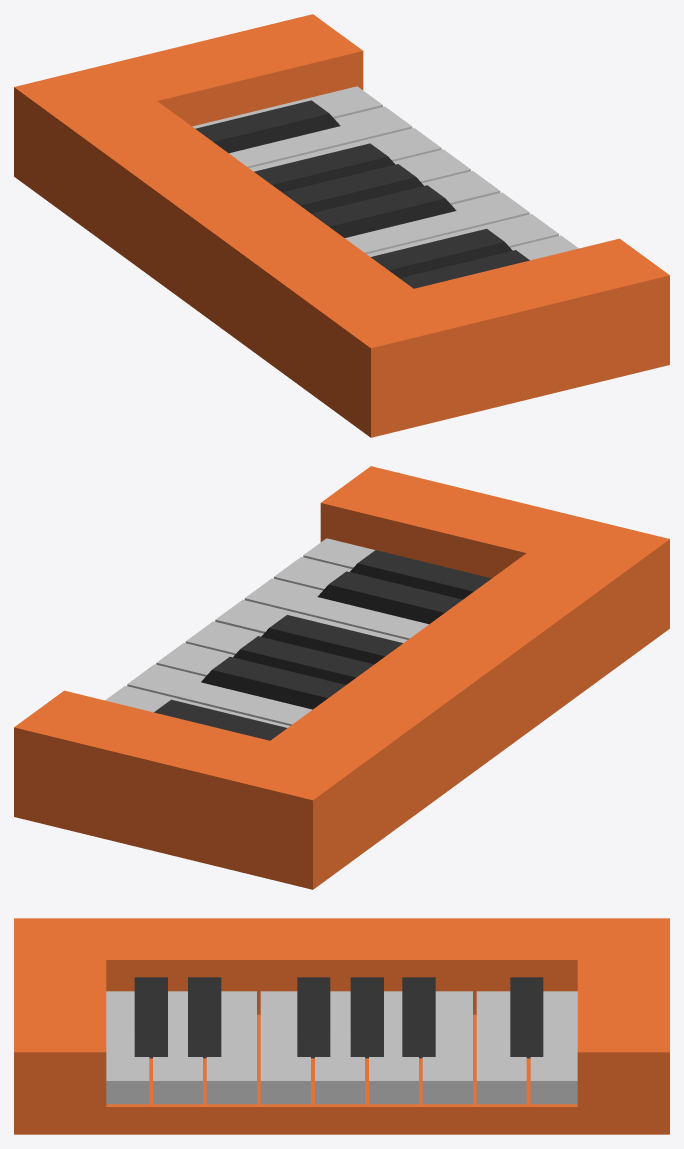
The model's file is Teclado.fbx.
3 views of the same model, one above another, from view 1: azimuth 30°, elevation 25°; view 2: azimuth 150°, elevation 25°; view 3: azimuth 270°, elevation 25° (orthographic). The views are drawn at different scales.
Visible parts, largest first — view 1: Cube.091; view 2: Cube.091; view 3: Cube.091.
Boxes of the visible parts, box(x1,y1,x2,y2) form: Cube.091: box(14, 14, 669, 437); Cube.091: box(14, 466, 669, 889); Cube.091: box(14, 918, 669, 1134).
Size of the model in its own units: 44.55 by 12.75 by 92.1.
